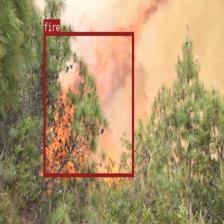fire: (43, 32, 134, 176)
